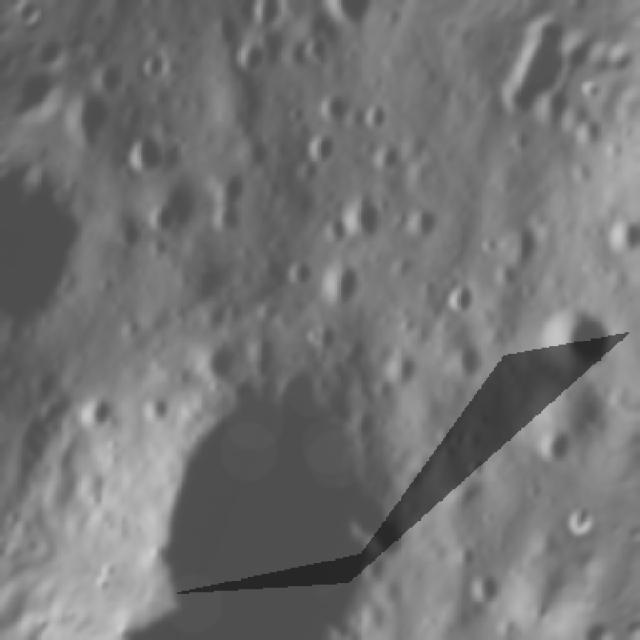crater: (102, 303, 464, 640), (0, 173, 103, 342), (534, 285, 628, 381), (492, 55, 574, 133), (329, 172, 398, 246), (118, 120, 184, 188), (311, 246, 375, 316), (454, 552, 517, 620), (59, 82, 122, 146), (528, 416, 584, 476), (203, 156, 260, 212), (198, 328, 252, 386), (440, 266, 494, 323), (105, 200, 157, 258), (446, 331, 500, 383), (598, 202, 640, 268), (72, 383, 125, 435), (310, 72, 361, 125), (314, 0, 390, 35), (226, 29, 276, 82), (403, 198, 452, 250), (92, 48, 139, 98), (277, 247, 323, 298), (134, 42, 180, 90), (205, 196, 252, 242), (141, 191, 187, 238), (300, 121, 346, 167), (242, 0, 296, 37), (356, 92, 399, 134), (34, 129, 57, 176), (575, 83, 611, 109)
